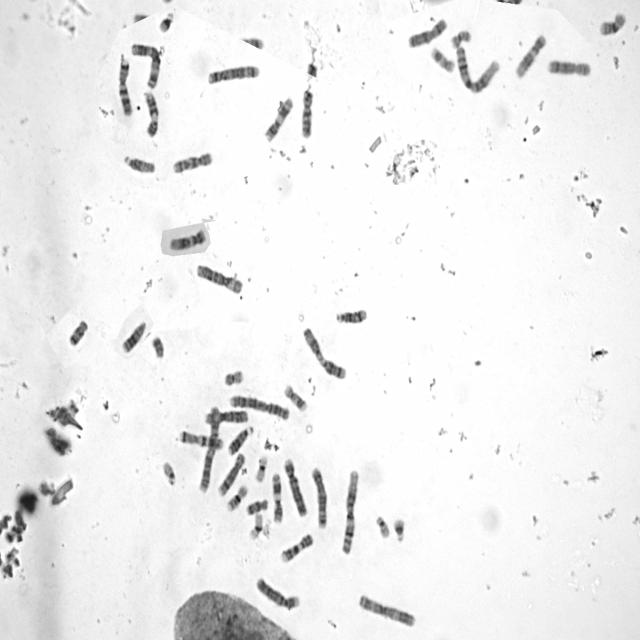A1: (456, 46, 499, 93), (342, 470, 359, 554)
A2: (198, 405, 221, 493), (228, 394, 290, 421)
A3: (358, 594, 416, 628), (131, 43, 161, 89)
B4: (256, 577, 300, 611), (283, 458, 307, 518)
B5: (208, 64, 260, 85), (312, 468, 327, 528)
C10: (173, 152, 213, 174), (301, 90, 313, 138)
C11: (264, 97, 293, 142), (271, 473, 282, 524)
C12: (515, 35, 547, 77), (169, 230, 207, 252)
C6: (196, 264, 243, 294), (204, 409, 248, 425)
C7: (179, 430, 223, 450), (118, 60, 132, 116)
C8: (218, 452, 245, 497), (548, 58, 592, 78)
C9: (280, 532, 314, 562), (144, 92, 159, 137)
D13: (121, 321, 147, 354), (227, 425, 254, 456)
D14: (319, 357, 346, 379), (336, 308, 367, 324)
D15: (303, 328, 324, 362), (124, 155, 156, 173)
E16: (598, 12, 626, 36), (226, 484, 248, 512)
E17: (283, 384, 307, 412), (430, 48, 455, 72)
E18: (69, 320, 89, 346), (246, 498, 269, 516)
F19: (249, 513, 263, 539), (255, 456, 267, 482)
F20: (450, 30, 471, 48), (224, 369, 244, 386)
G21: (159, 11, 174, 33), (393, 518, 405, 542)
G22: (162, 461, 175, 486), (376, 516, 389, 538)
X: (408, 18, 448, 48)
Y: (152, 336, 164, 358)
